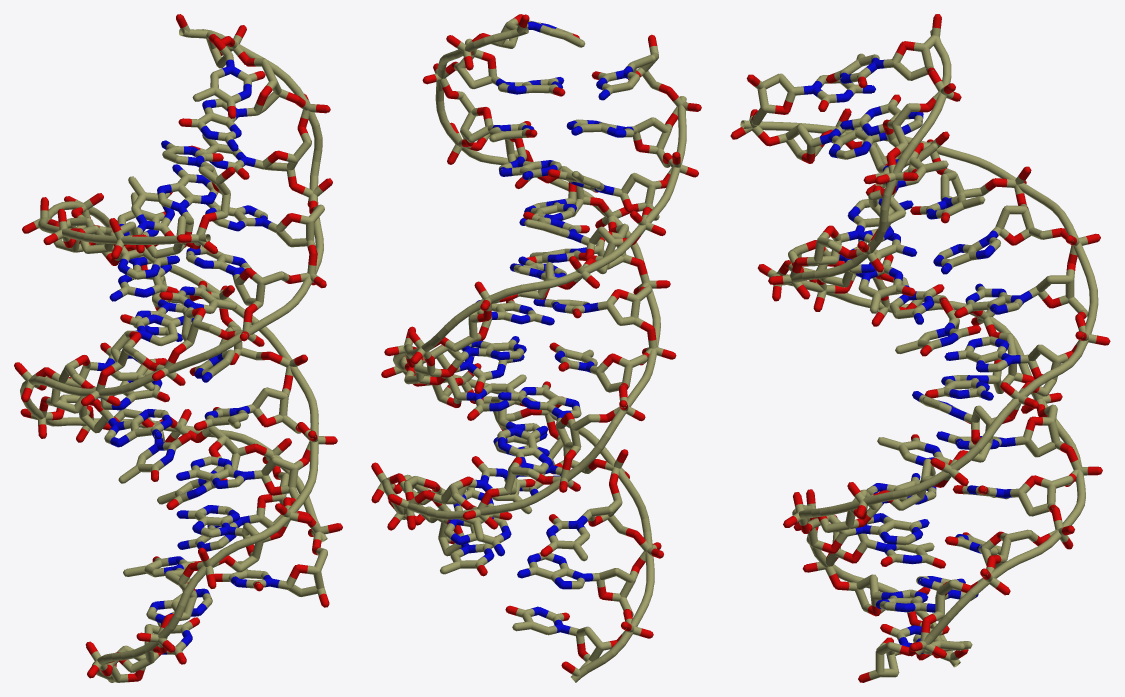
Rendered from dna.gltf.
The picture shows the model from 3 angles, left to right: view 1: azimuth 30°, elevation 25°; view 2: azimuth 150°, elevation 25°; view 3: azimuth 270°, elevation 25°; orthographic projection. The views are drawn at different scales.
Visible parts, largest first — view 1: dna-frame-60; view 2: dna-frame-60; view 3: dna-frame-60.
Part boxes in pixels (x1,y1,x2,y2): dna-frame-60: (14, 14, 342, 682); dna-frame-60: (371, 14, 701, 682); dna-frame-60: (730, 14, 1110, 682).
Size of the model in its own units: 1.23 by 2.67 by 1.35.
